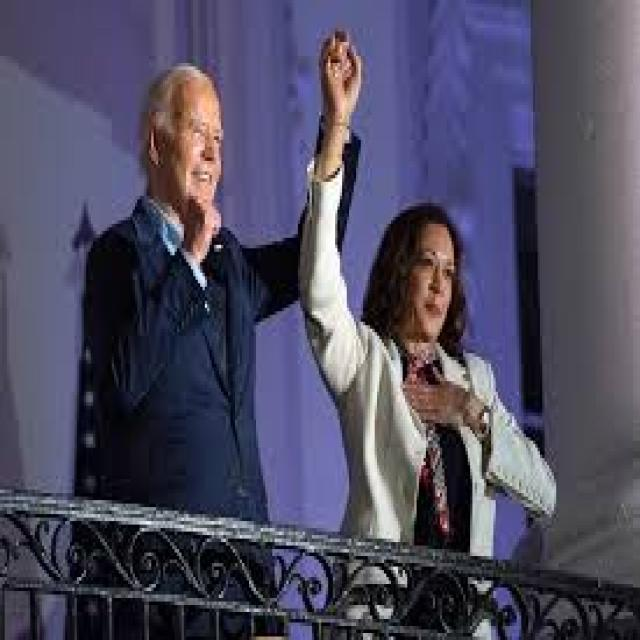stand: (56, 0, 320, 640), (329, 175, 512, 640)
